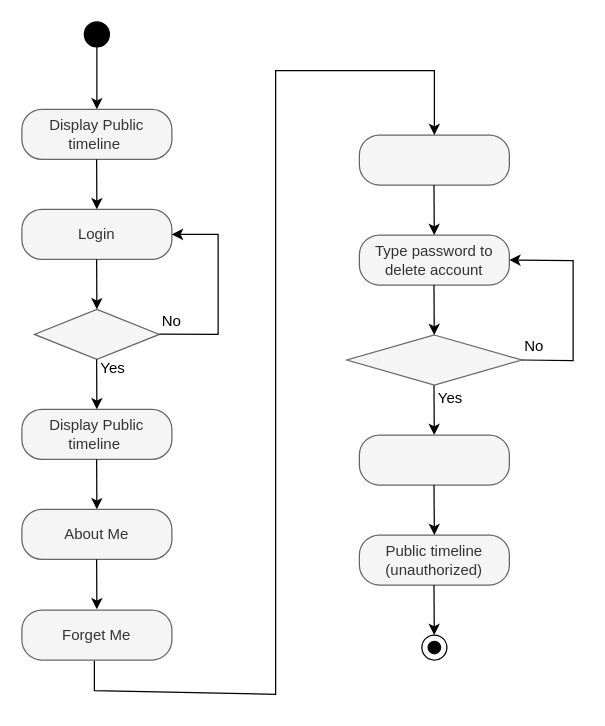
The diagram is 605 pixels wide and 726 high, and some of its shapes have lost their labels. Here are the shapes that lost their labels. From the top down, the centre of each, then its label:
[433,159]: Delete Personal Data
[96,333]: Succesful?
[434,359]: Valid password?
[433,459]: Delete data and close account
